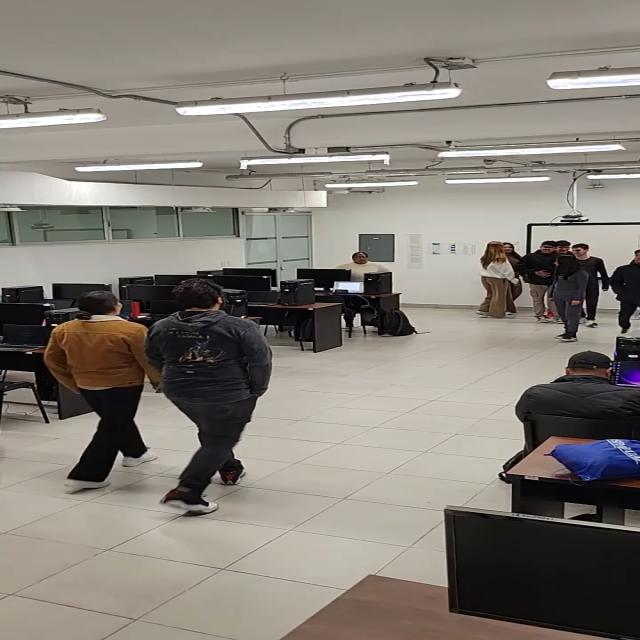Persona: (145, 278, 274, 513), (42, 292, 166, 488), (550, 254, 592, 342), (522, 241, 564, 323), (570, 244, 610, 328), (479, 241, 517, 318), (610, 247, 640, 334), (502, 241, 524, 302), (553, 239, 574, 258)
